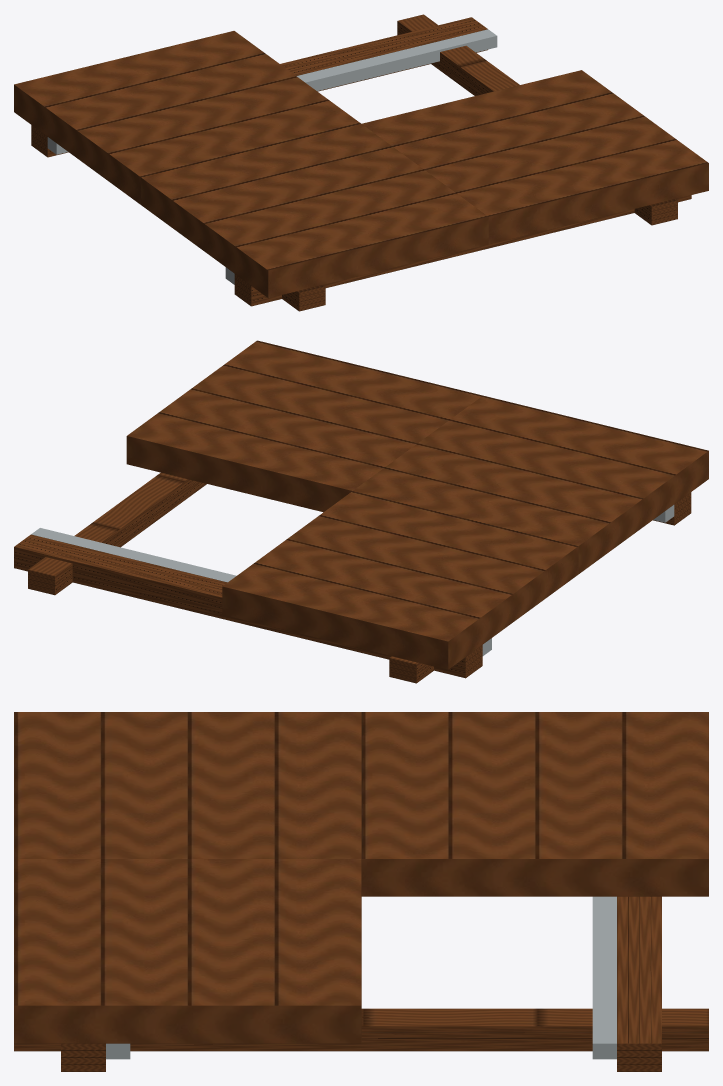
File: modular-survival-base-builder-floor-quarter-return-rei-5ab00293__24282.glb
3 renders of one model, top to bottom at view 1: azimuth 30°, elevation 25°; view 2: azimuth 150°, elevation 25°; view 3: azimuth 270°, elevation 25°, orthographic. The views are drawn at different scales.
Parts seen in each view (by area): view 1: floor-quarter-return-reinforced; view 2: floor-quarter-return-reinforced; view 3: floor-quarter-return-reinforced.
Part boxes in pixels (left/top/right/bottom): floor-quarter-return-reinforced: left=14, top=14, right=708, bottom=311; floor-quarter-return-reinforced: left=14, top=340, right=708, bottom=683; floor-quarter-return-reinforced: left=14, top=712, right=708, bottom=1071.
Size of the model in its own units: 2 by 0.21 by 2.
2 materials, 1 textured.
